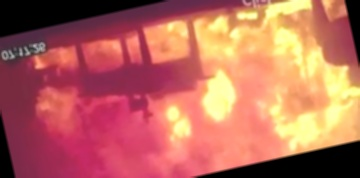fire: (29, 0, 360, 178)
